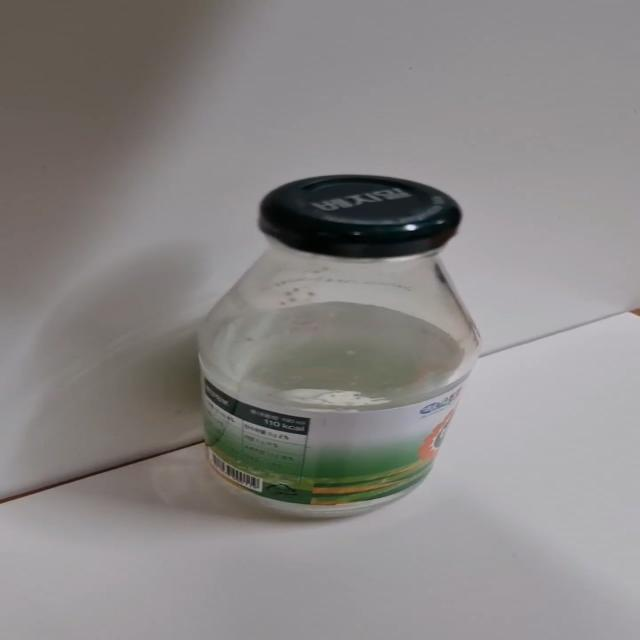Glass: (192, 169, 486, 520)
